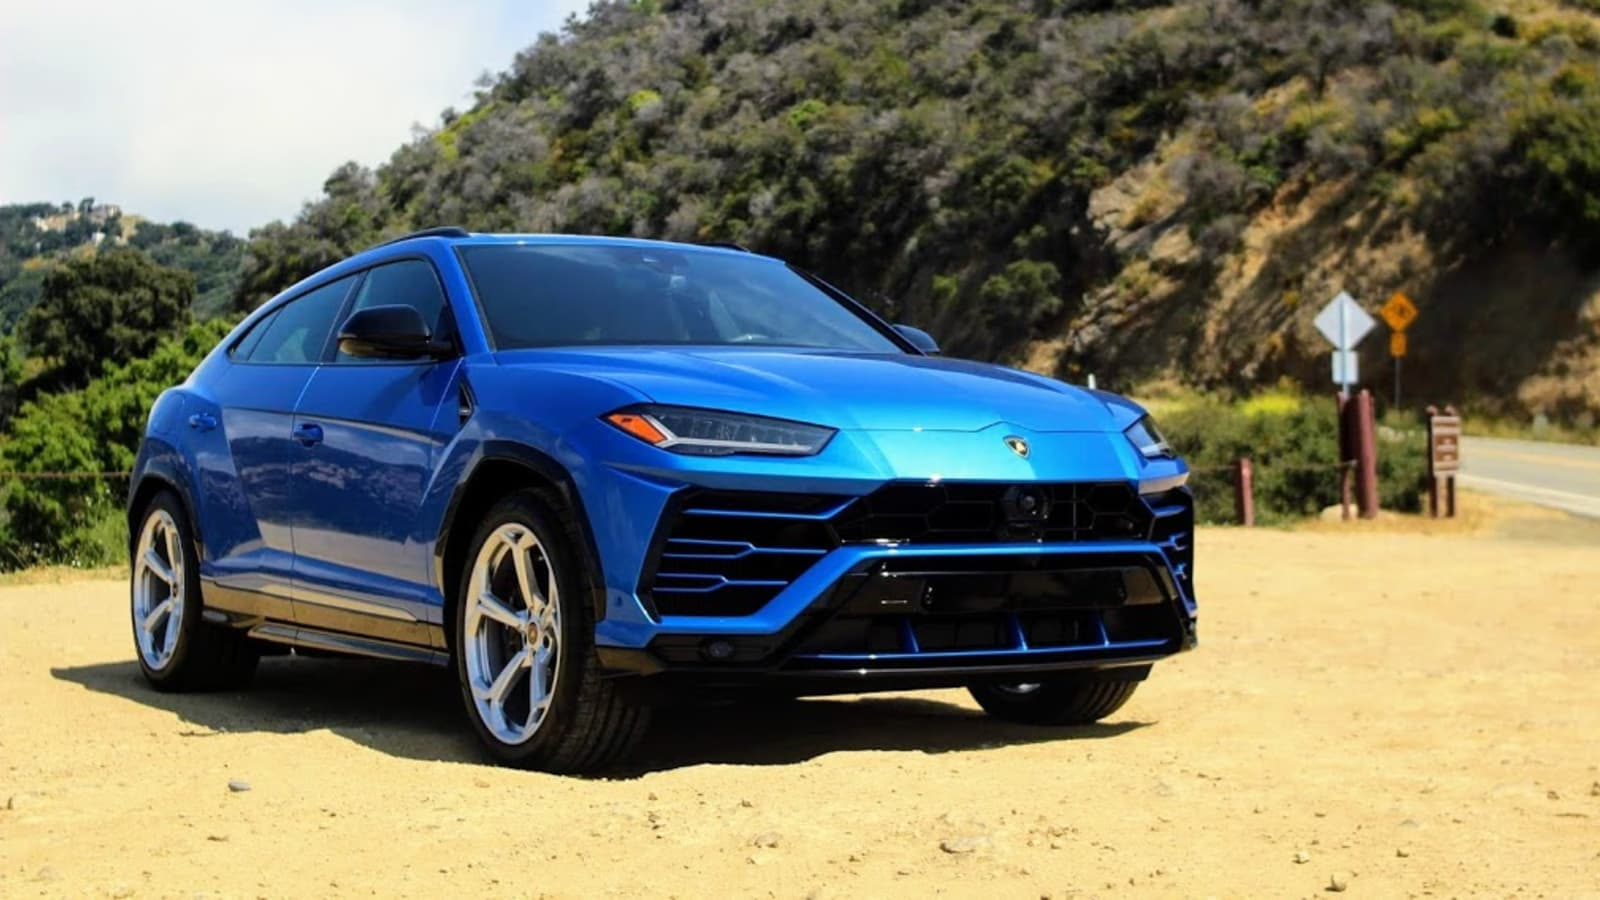car: (123, 224, 1198, 774)
